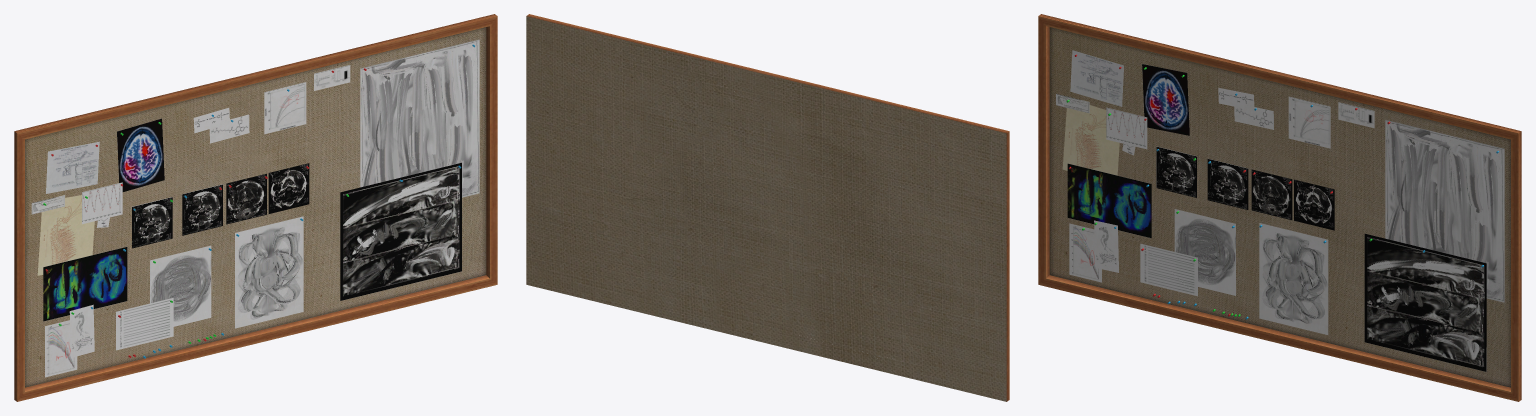
File: bulletin_board_large_wau.dae
3 views of the same model, side by side, from view 1: azimuth 30°, elevation 25°; view 2: azimuth 150°, elevation 25°; view 3: azimuth 330°, elevation 25° (orthographic).
Parts seen in each view (by area): view 1: polySurface154, polySurface183; view 2: polySurface183; view 3: polySurface154, polySurface183.
Part boxes in pixels (left/top/right/bottom): polySurface154: left=31, top=39, right=479, bottom=377; polySurface183: left=14, top=14, right=497, bottom=401; polySurface183: left=526, top=14, right=1009, bottom=401; polySurface154: left=1056, top=50, right=1504, bottom=371; polySurface183: left=1038, top=14, right=1521, bottom=401.
Bounding box in the file's own units: 238 × 127 × 3.23.
